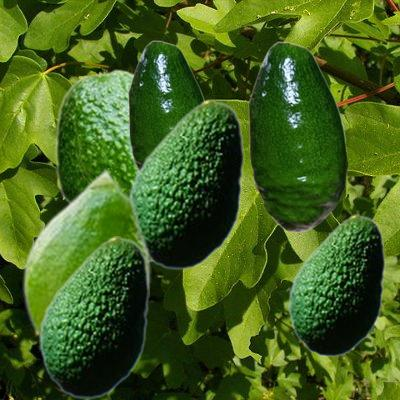avocado: (22, 167, 150, 344), (128, 99, 243, 269), (54, 68, 151, 262), (248, 41, 347, 231), (39, 236, 148, 398), (288, 214, 384, 356), (128, 40, 204, 168)
